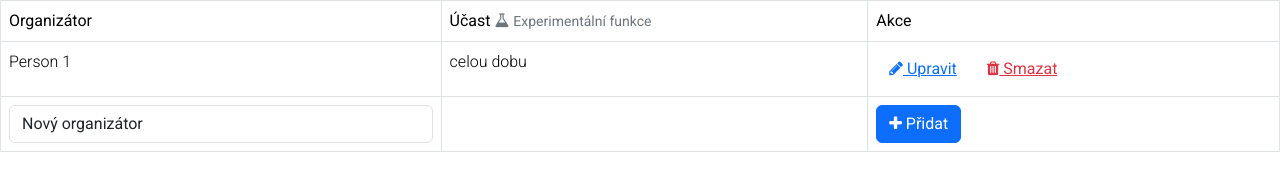
Test: People › edit person
Click the button "Upravit" at (923, 69), box [876,50,970,88]
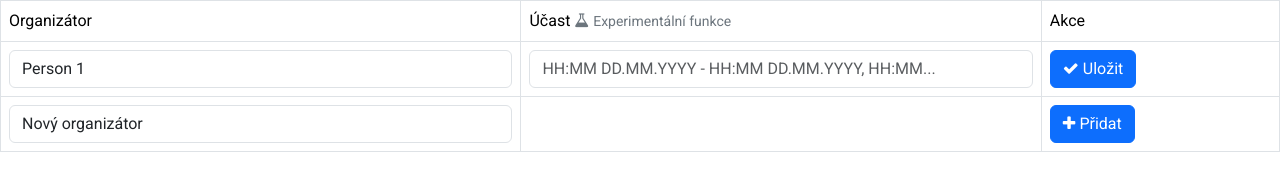
Replace the text in the field with test id "people-edit-name" with "Person 2" at (261, 69), box [9,50,512,88]
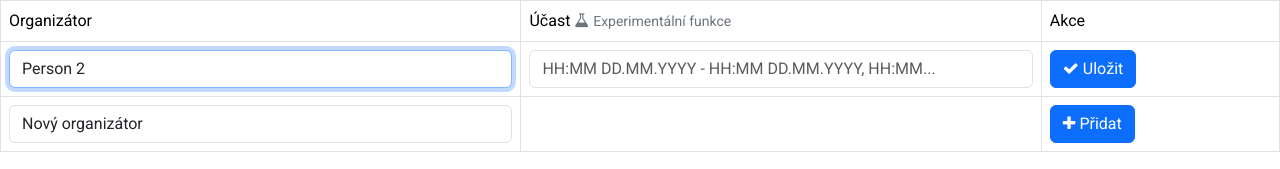
Click the button with test id "people-edit-save" at (1093, 69), box [1050,50,1136,88]
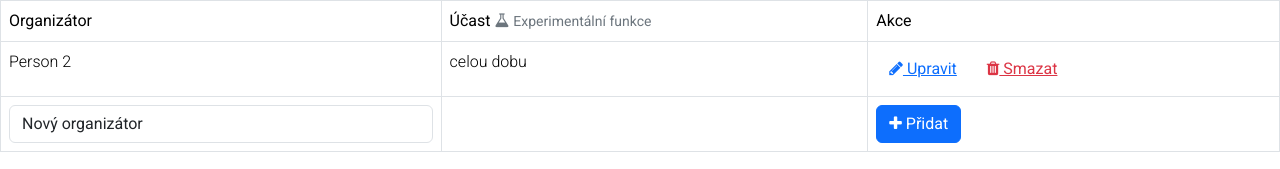
Expected: the text "Person 2" is shown, [0,42,441,96]
Expected: the button "Upravit" is shown, [876,50,970,88]
